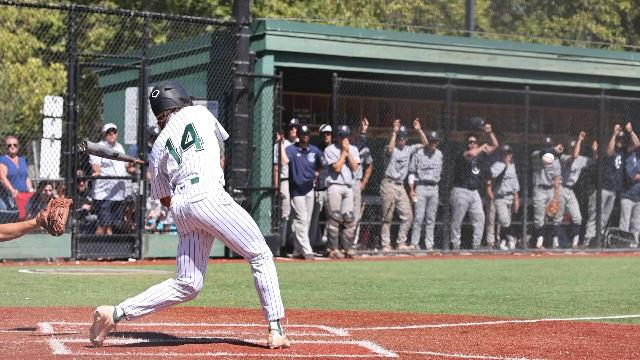ball: (542, 153, 554, 165)
bat: (77, 140, 147, 166)
